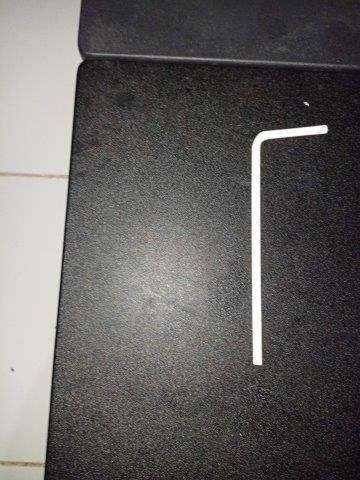sedotan: (251, 124, 328, 366)
